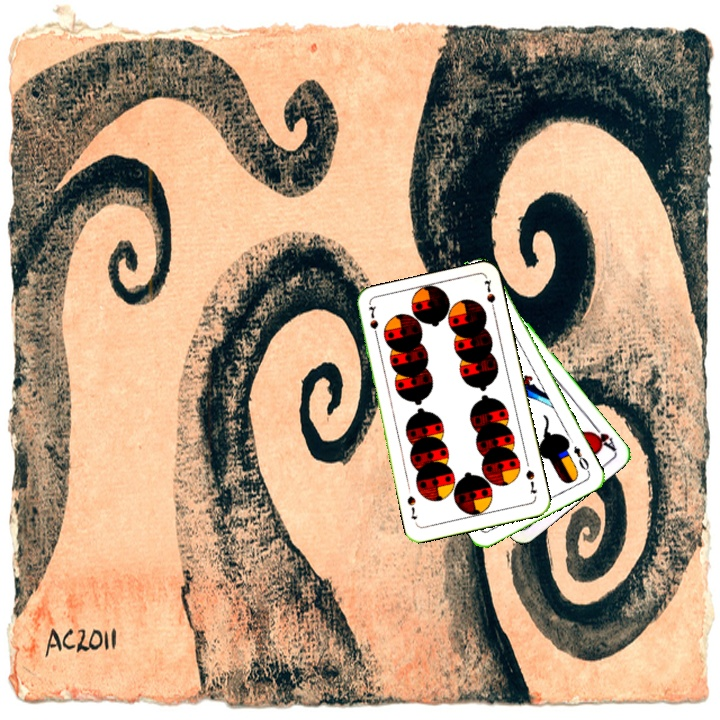EO: (569, 442, 592, 475)
HA: (585, 419, 619, 454)
S7: (364, 302, 381, 342), (522, 466, 539, 496)
